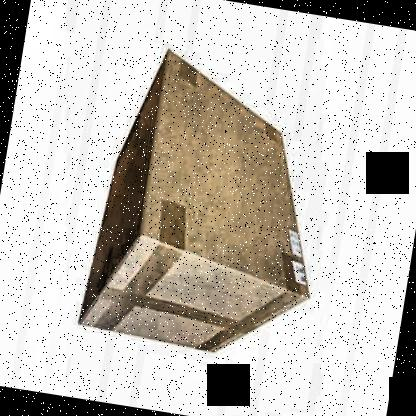no defect parcel: (65, 27, 359, 373)
